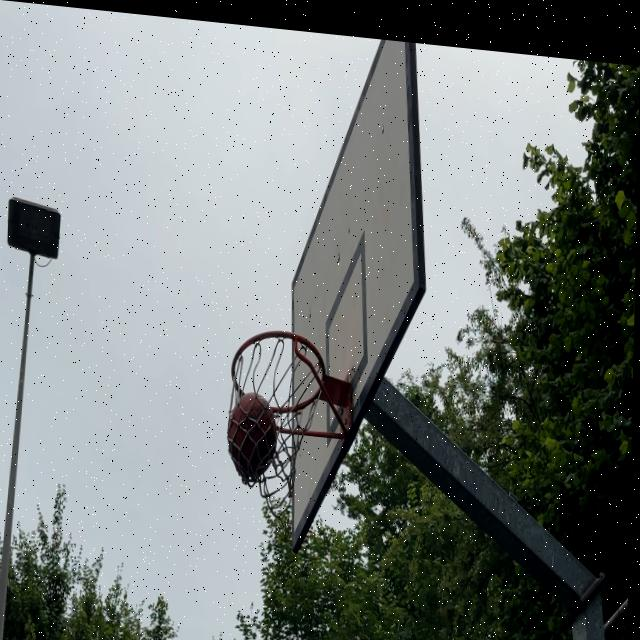Goal: (228, 390, 277, 478)
